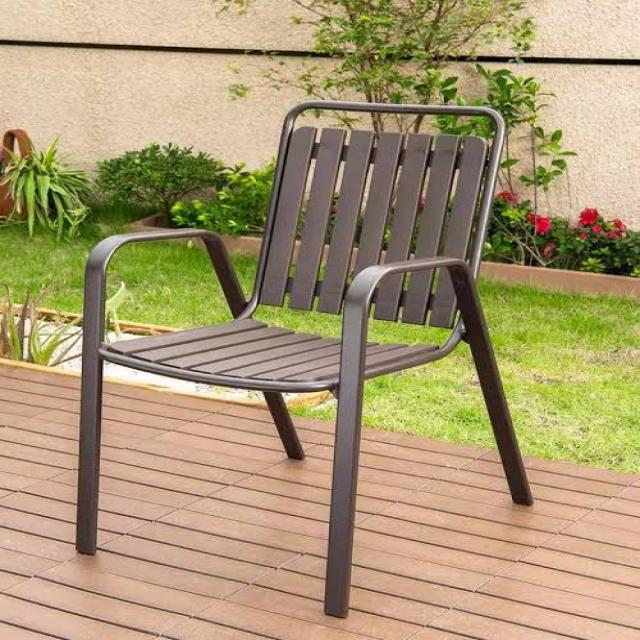Chair: (64, 86, 553, 634)
